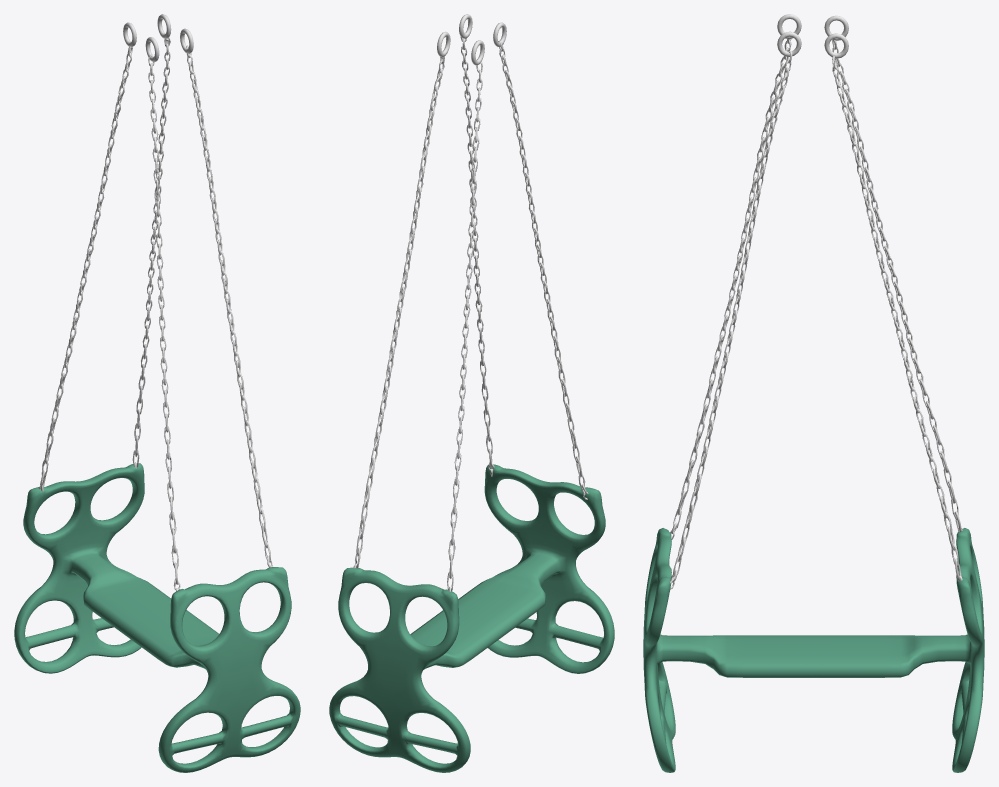
The model's file is Horse Glider.glb.
3 renders of one model, left to right at view 1: azimuth 30°, elevation 25°; view 2: azimuth 150°, elevation 25°; view 3: azimuth 270°, elevation 25°, orthographic. The views are drawn at different scales.
Parts seen in each view (by area): view 1: Circle004001, Torus005001,_colorize_, Torus001,_colorize_; view 2: Circle004001, Torus005001,_colorize_, Torus001,_colorize_; view 3: Circle004001, Torus005001,_colorize_, Torus001,_colorize_.
Boxes of the visible parts, <box> form: Circle004001: <box>14,463,300,772</box>; Torus005001,_colorize_: <box>39,37,273,590</box>; Torus001,_colorize_: <box>123,14,193,62</box>; Circle004001: <box>329,464,614,772</box>; Torus005001,_colorize_: <box>353,32,588,591</box>; Torus001,_colorize_: <box>437,14,506,65</box>; Circle004001: <box>643,528,984,772</box>; Torus005001,_colorize_: <box>670,31,962,589</box>; Torus001,_colorize_: <box>777,14,848,58</box>.
Bounding box in the file's own units: 0.4543 × 2.16 × 0.9142.
